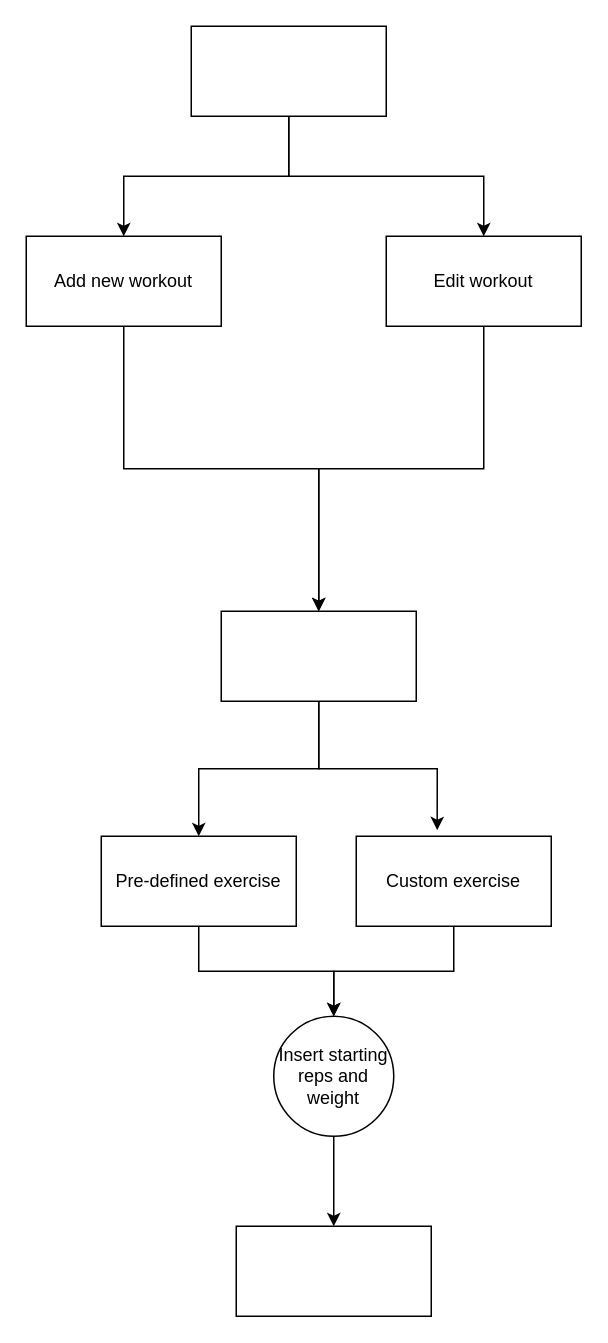
Some shapes in this 608 by 1343 pixel diagram are drawn without their labels. The shapes that lost their labels are listed below. From the top down, each one's centre as x and y in pixels, then its label:
(288,70): Workout configuration
(318,655): Add exercise
(333,1270): Calculate progression(default or custom)
